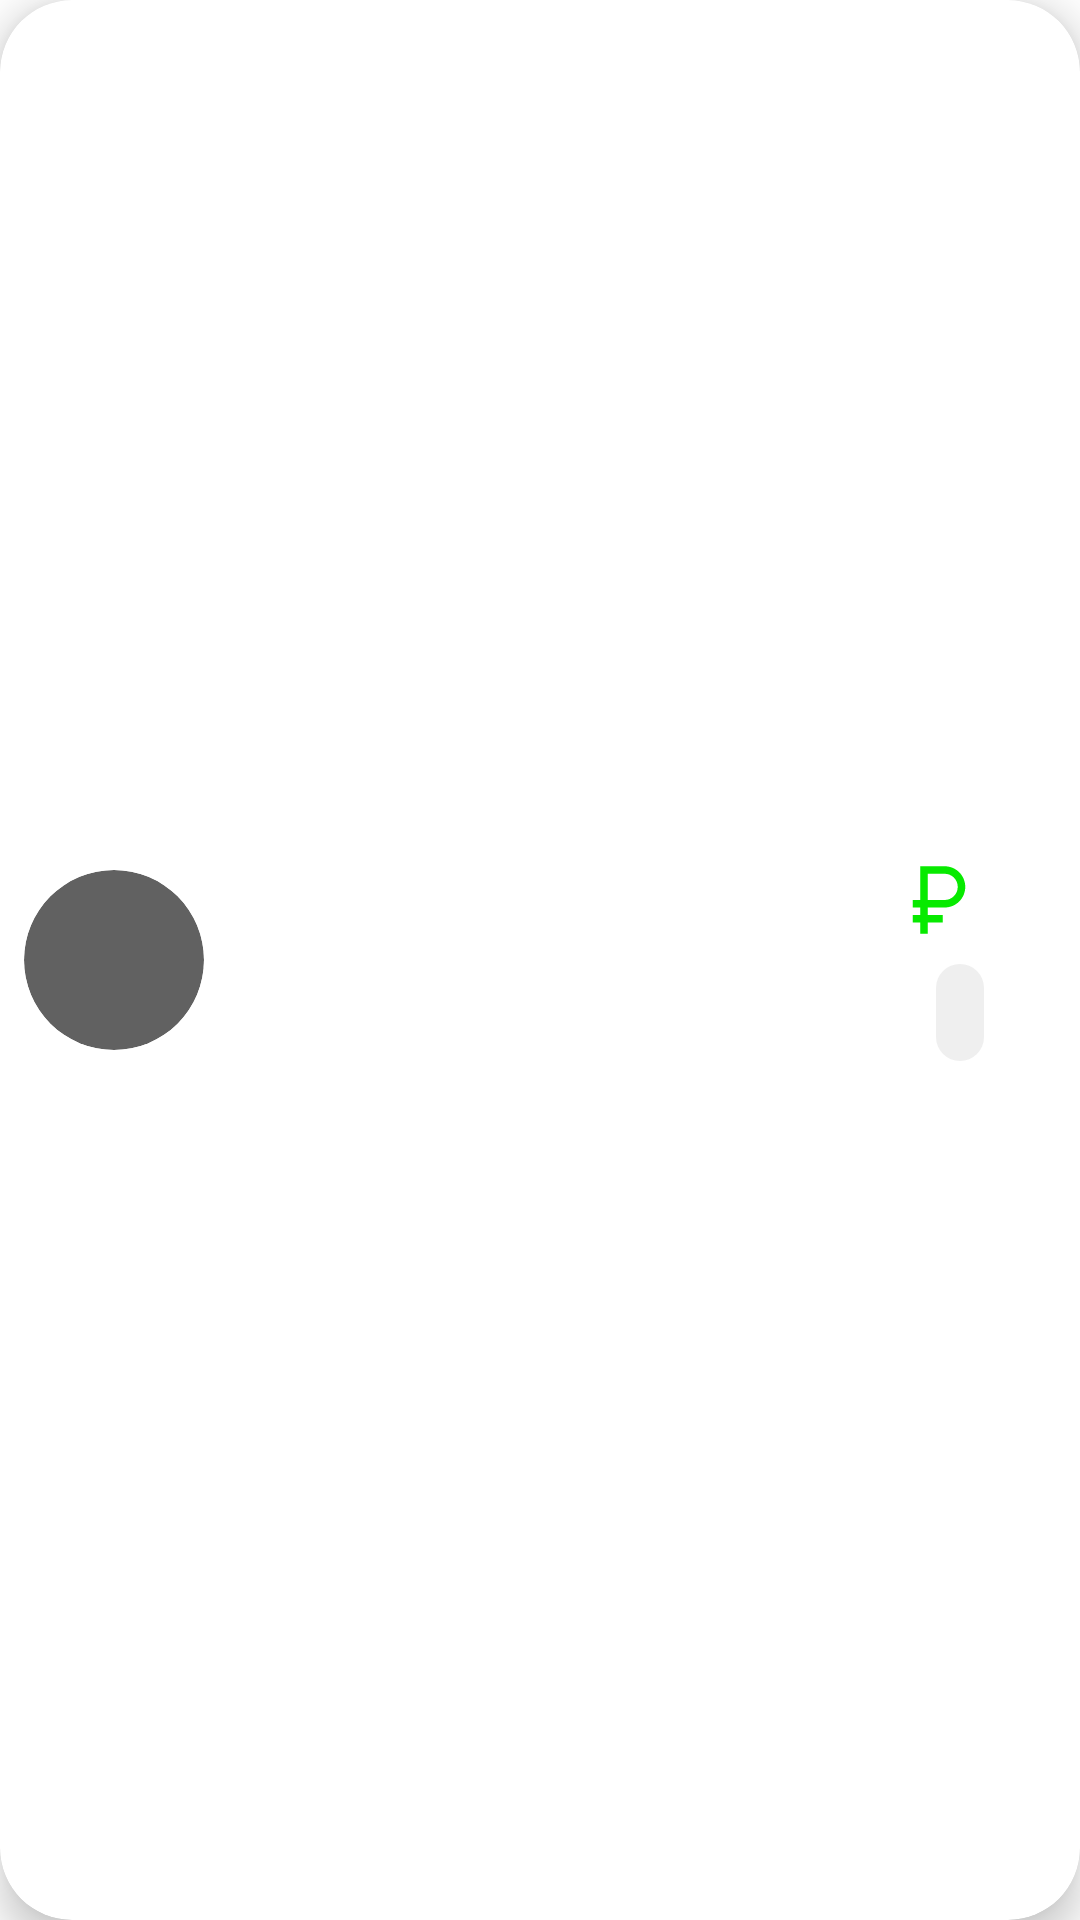

Named icons in this screenshot (1080px x 1920px) and their centers, [x,y]:
ruble: [939,900]
